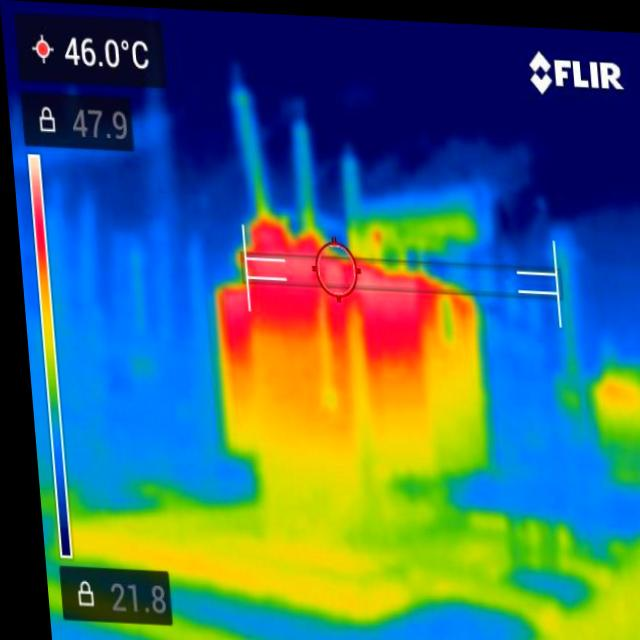Faulty: (180, 197, 481, 380)
